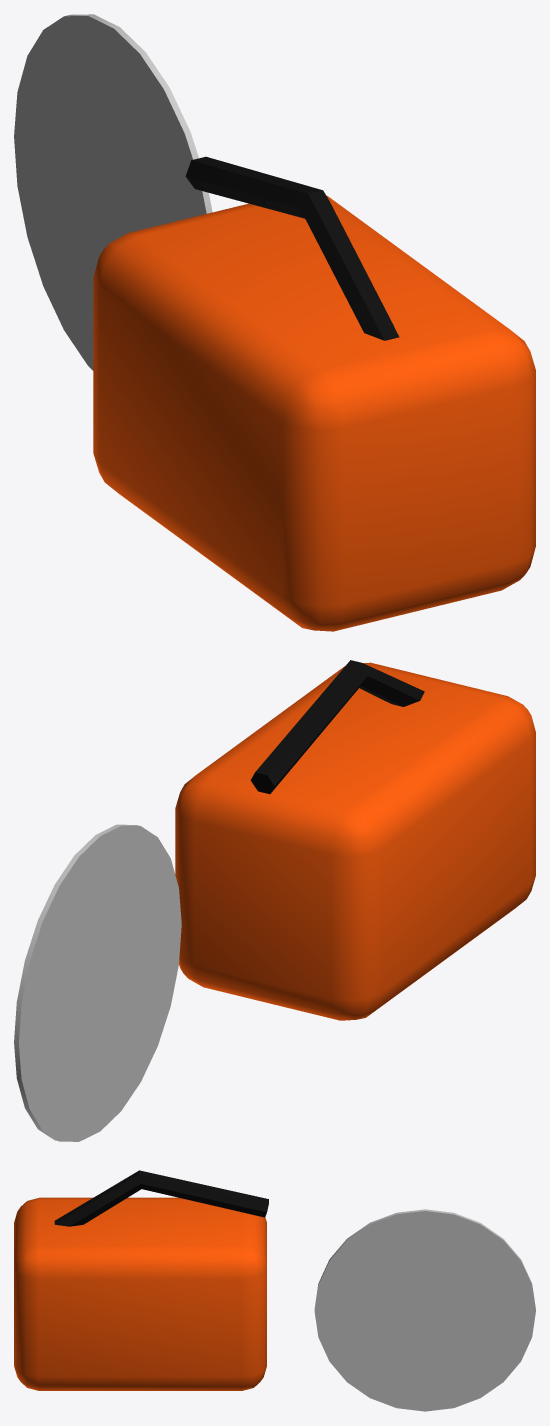
Rendered from plant.tool.saw.glb.
3 renders of one model, top to bottom at view 1: azimuth 30°, elevation 25°; view 2: azimuth 150°, elevation 25°; view 3: azimuth 270°, elevation 25°, orthographic. The views are drawn at different scales.
Visible parts, largest first — view 1: main__hivis_orange, main__steel_stainless, main__plastic_black; view 2: main__hivis_orange, main__steel_stainless, main__plastic_black; view 3: main__hivis_orange, main__steel_stainless, main__plastic_black.
Part boxes in pixels (x1,y1,x2,y2): main__hivis_orange: [93, 195, 535, 631]; main__steel_stainless: [14, 14, 212, 370]; main__plastic_black: [185, 156, 399, 340]; main__hivis_orange: [175, 662, 535, 1020]; main__steel_stainless: [14, 824, 181, 1141]; main__plastic_black: [250, 660, 424, 794]; main__hivis_orange: [14, 1197, 266, 1390]; main__steel_stainless: [314, 1209, 535, 1411]; main__plastic_black: [54, 1170, 268, 1226].
Bounding box in the file's own units: 0.25 × 0.3879 × 0.825.
